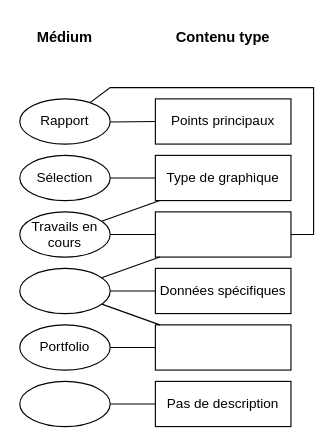
Some shapes in this 334 by 446 pixel diagram are drawn without their labels. The centre of each missing label's shape, as x and y in pixels:
"Design" belongs at (222,347).
"Décoration" belongs at (64,403).
"Présentation" belongs at (64,290).
"Titre" belongs at (222,234).
